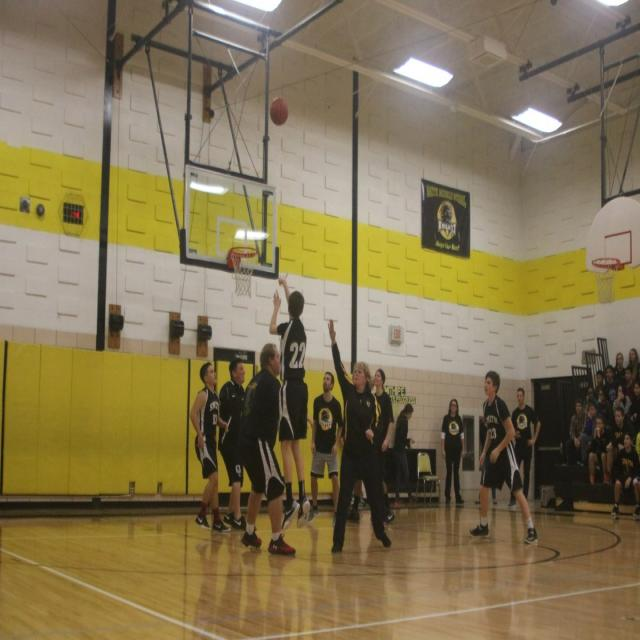body: (176, 514, 536, 638), (327, 317, 392, 556), (237, 341, 297, 558), (468, 369, 538, 547), (268, 270, 312, 532), (188, 358, 233, 535), (342, 366, 388, 526), (305, 370, 344, 531), (217, 357, 247, 532), (507, 385, 542, 512), (390, 402, 419, 509), (440, 397, 466, 509), (610, 430, 640, 518), (589, 414, 612, 486), (604, 406, 636, 451), (580, 401, 598, 469), (569, 400, 587, 450), (625, 379, 640, 438), (612, 383, 632, 417), (596, 388, 613, 427), (604, 364, 621, 402), (622, 366, 637, 404), (582, 386, 598, 417), (477, 486, 498, 508), (613, 352, 626, 385), (593, 370, 606, 402), (627, 348, 639, 370), (635, 429, 640, 456)
